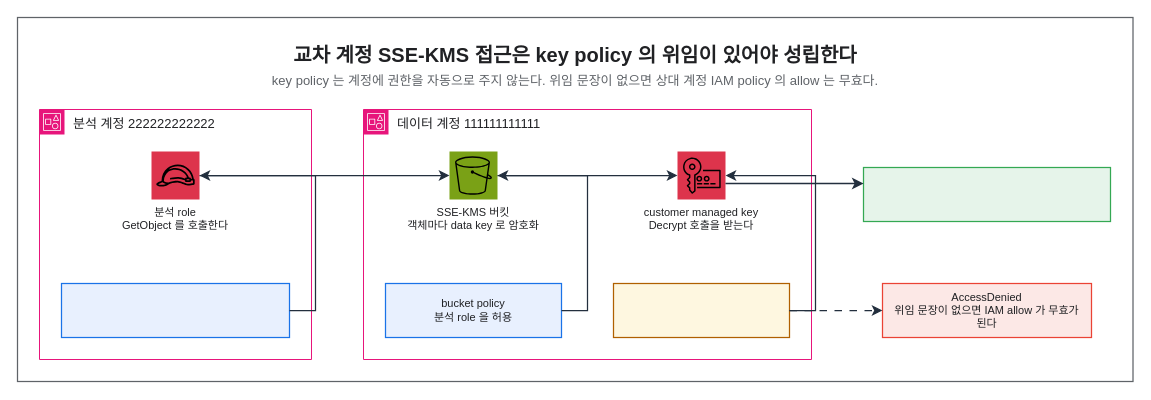
This 1151x400 diagram has some shape labels left out. The centre of each missing label's shape, as x and y in pixels:
"IAM policy s3:GetObject 와 kms:Decrypt Allow" goes at [175,310].
"key policy 222 계정에 위임하는 문장이 있어야 한다" goes at [701,310].
"복호화 성공 key policy 위임과 IAM allow 가 모두 있을 때만" goes at [986,194].
